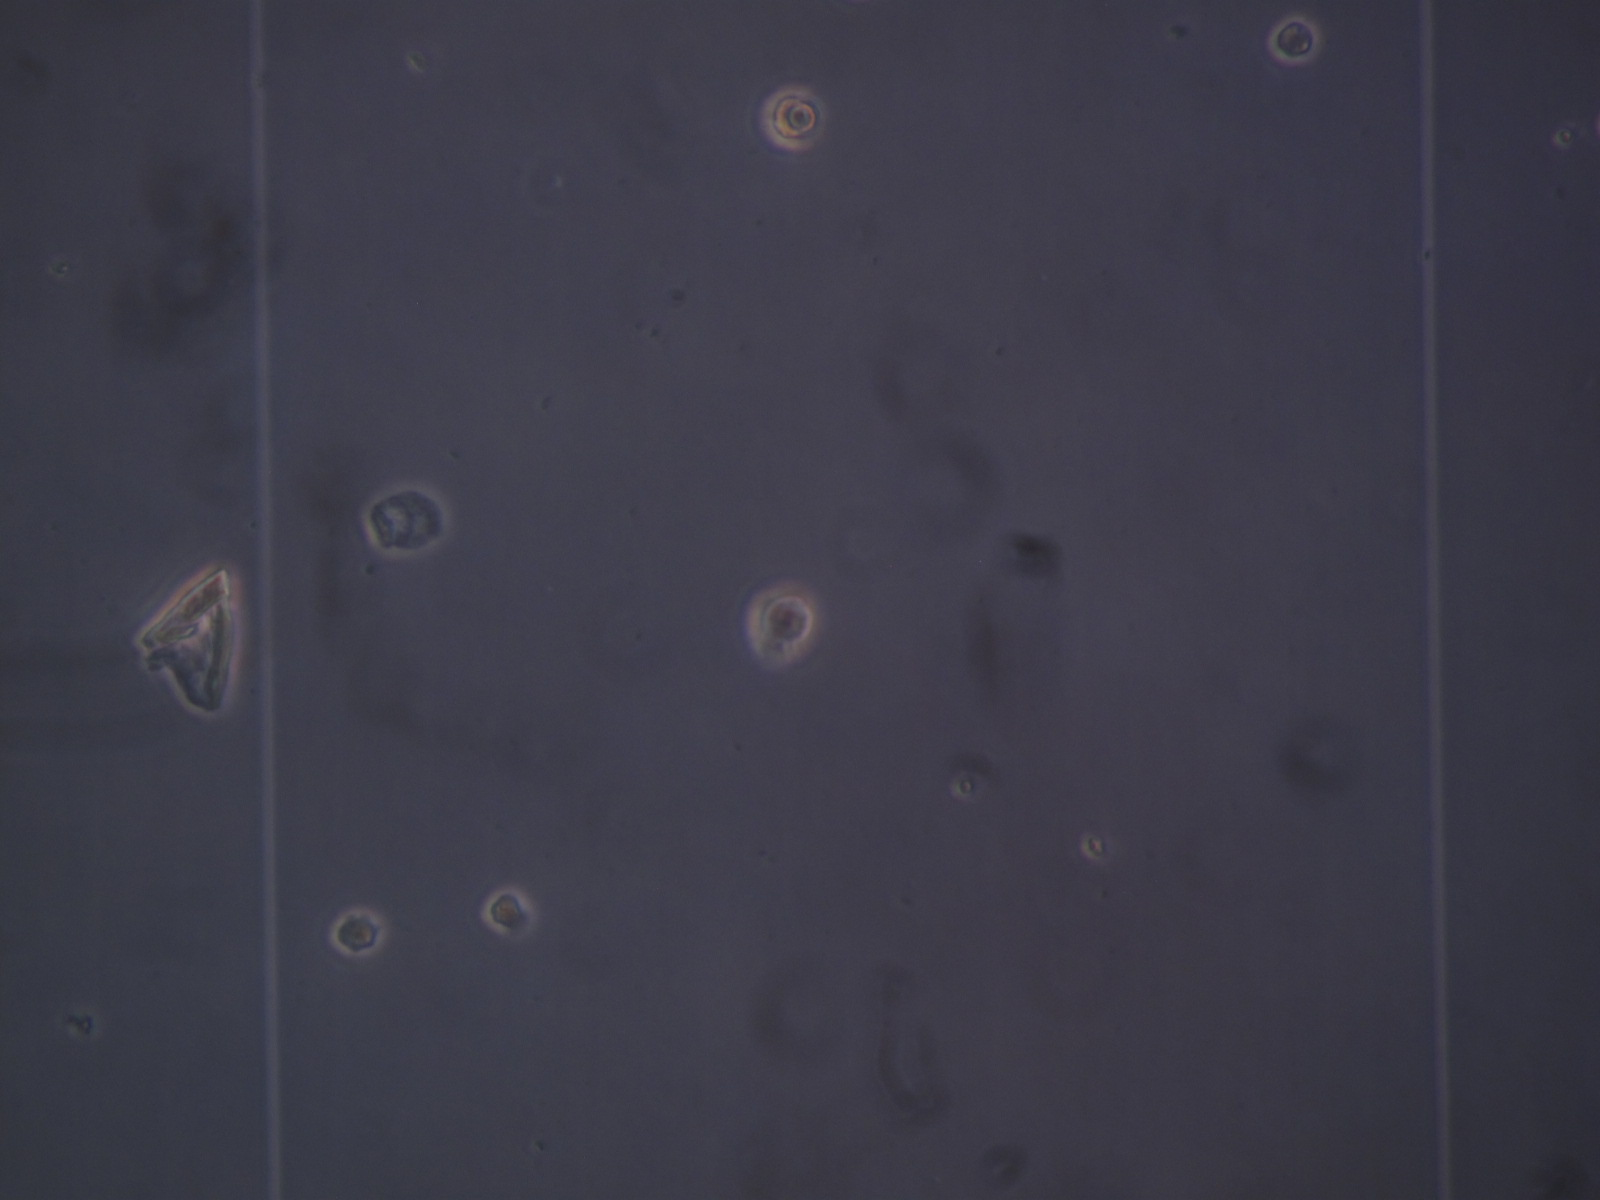hemo: (362, 482, 449, 557), (745, 582, 819, 655), (760, 86, 826, 151), (330, 908, 386, 957), (1267, 15, 1320, 64), (483, 887, 534, 937)
